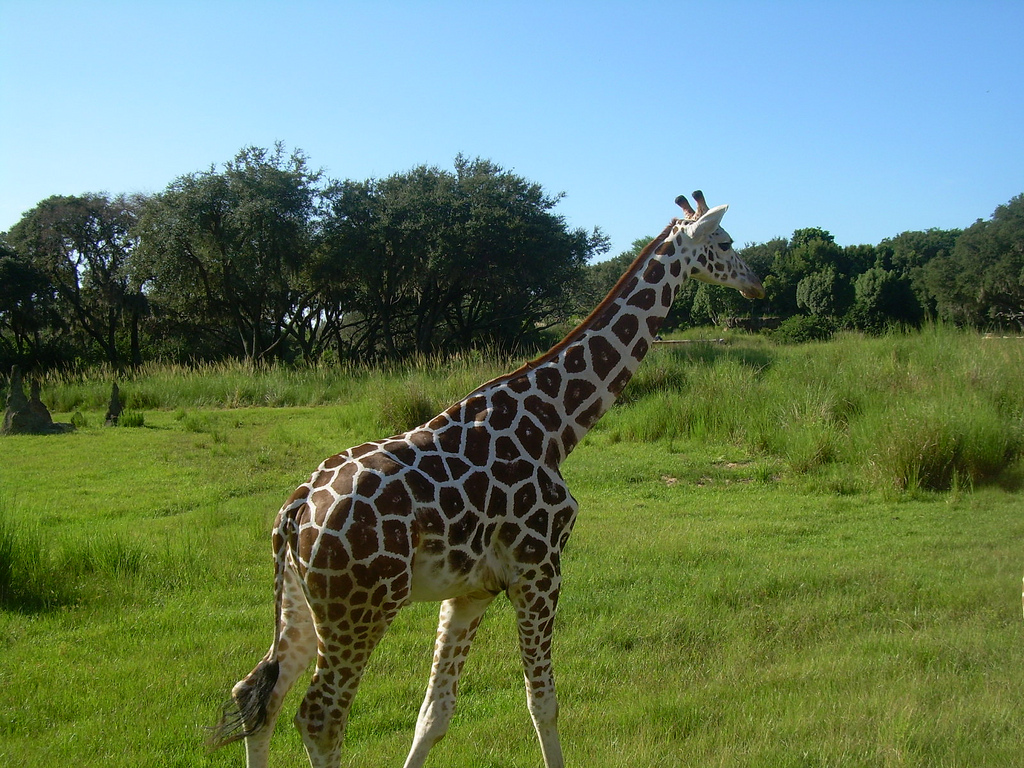giraffe: (250, 188, 771, 721)
